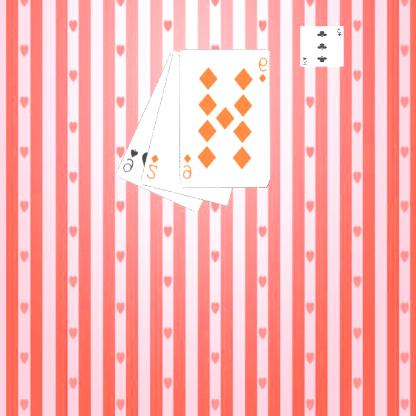2D: (145, 151, 162, 181)
9D: (182, 151, 194, 181), (257, 54, 269, 84)
9S: (121, 146, 142, 174)
